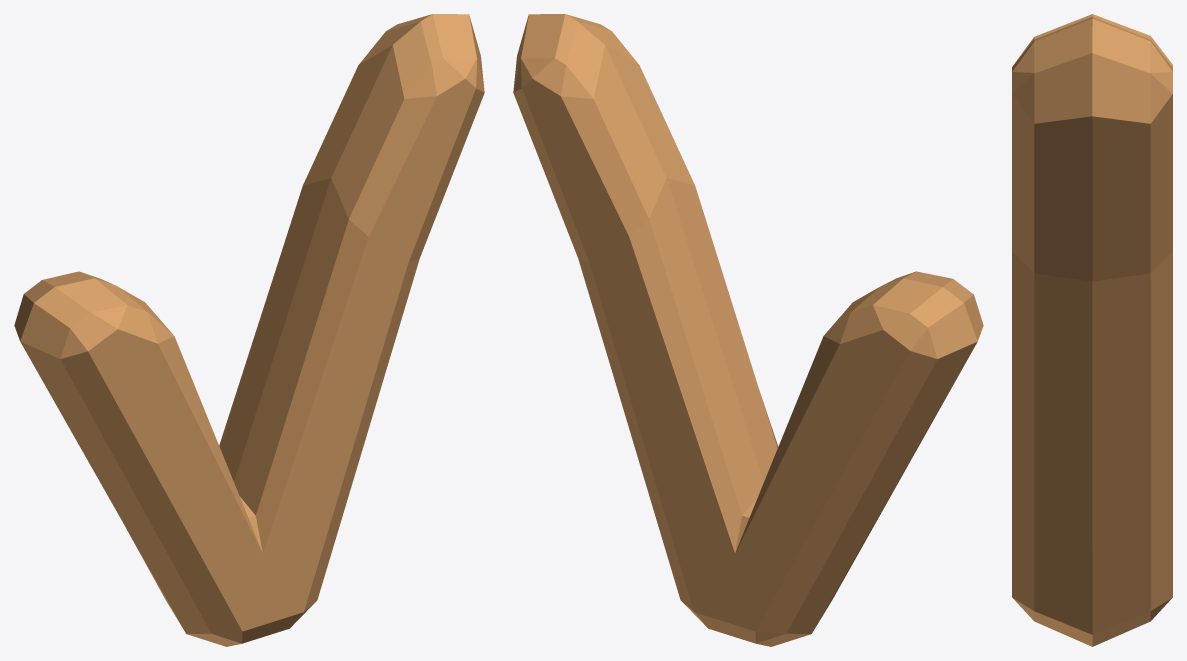
File: check_mark_green.fbx
The picture shows the model from 3 angles, left to right: view 1: azimuth 30°, elevation 25°; view 2: azimuth 150°, elevation 25°; view 3: azimuth 270°, elevation 25°; orthographic projection. The views are drawn at different scales.
Visible parts, largest first — view 1: сheck_mark; view 2: сheck_mark; view 3: сheck_mark.
Boxes of the visible parts, x1,y1,x2,y2 form: сheck_mark: [14, 14, 484, 646]; сheck_mark: [513, 14, 983, 646]; сheck_mark: [1012, 14, 1172, 646].
Size of the model in its own units: 33.62 by 40.62 by 8.03.
